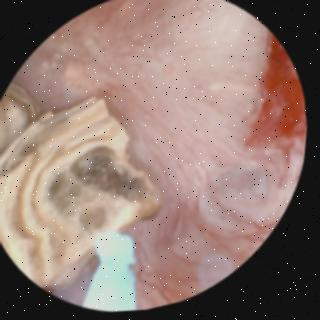fiber: (90, 234, 140, 311)
stone: (0, 84, 164, 284)
tissue: (25, 0, 301, 307)
